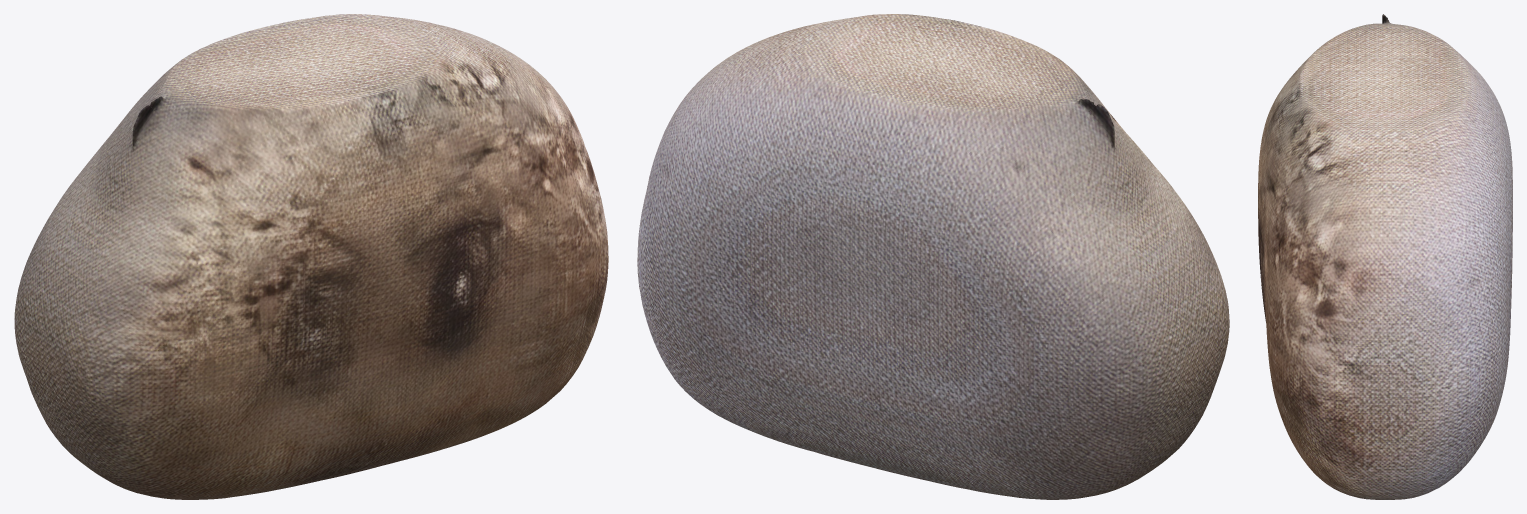
3 renders of one model, left to right at view 1: azimuth 30°, elevation 25°; view 2: azimuth 150°, elevation 25°; view 3: azimuth 270°, elevation 25°, orthographic. The views are drawn at different scales.
Parts seen in each view (by area): view 1: Mesh; view 2: Mesh; view 3: Mesh.
Part boxes in pixels (box(x1,y1,x2,y2)): Mesh: box(14, 14, 608, 499); Mesh: box(637, 14, 1229, 499); Mesh: box(1258, 14, 1512, 499).
Bounding box in the file's own units: 1.91 × 1.34 × 0.9099.
1 material, 1 textured.
